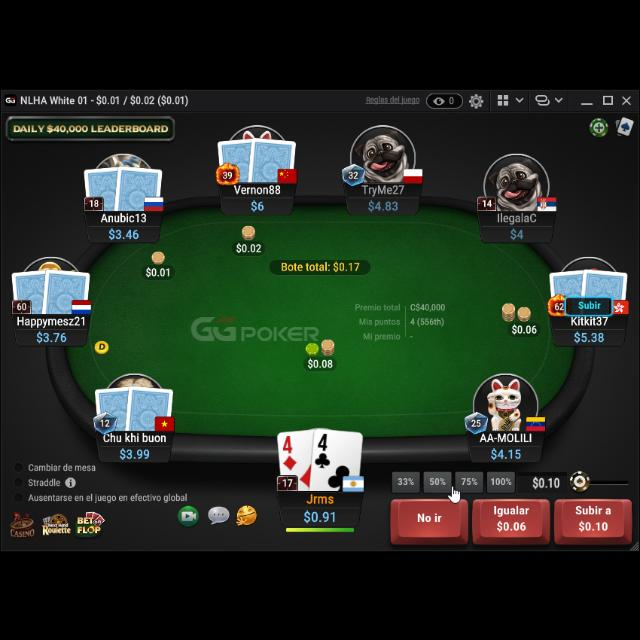4c: (314, 431, 332, 469)
4d: (282, 434, 298, 472)
bet_text: (306, 354, 336, 368), (510, 320, 538, 334), (235, 239, 263, 253), (144, 266, 172, 276)
card_back: (42, 265, 92, 315), (114, 162, 164, 212), (124, 381, 174, 431), (246, 134, 298, 182), (580, 265, 630, 313), (10, 266, 54, 314), (82, 163, 126, 211), (547, 266, 591, 314), (217, 135, 260, 183), (93, 384, 135, 431)
dealer: (92, 337, 110, 355)
hero_active: (390, 494, 634, 544)
pot_text: (278, 259, 362, 273)
stack_text: (303, 506, 337, 524), (106, 224, 140, 240), (34, 328, 68, 342), (572, 328, 606, 342), (489, 444, 523, 458), (367, 196, 401, 210), (118, 445, 150, 459), (508, 224, 526, 238), (250, 197, 266, 211)
